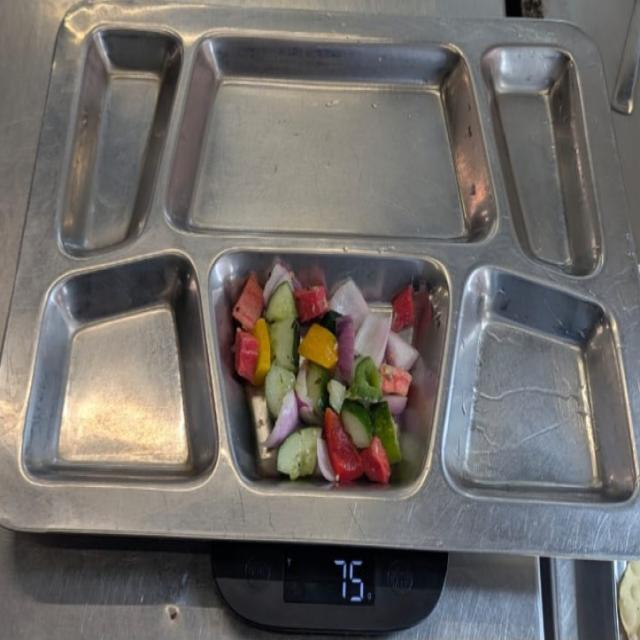Salad: (229, 254, 423, 495)
